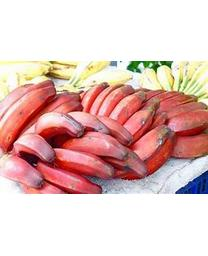banana: (2, 81, 207, 192)
